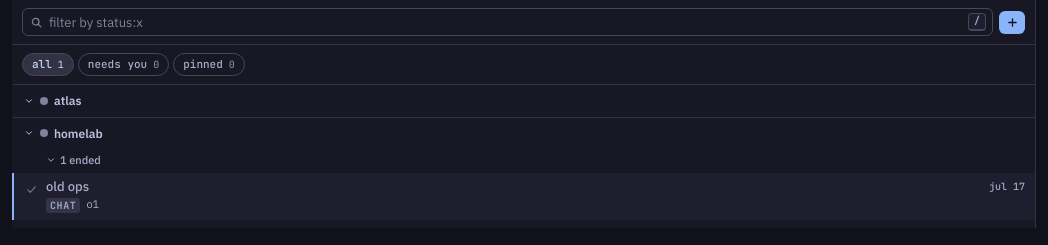
Test: clicking the ended row that holds the open session closes it
The image size is (1048, 245).
Click the button "1 ended": (80, 160) [12, 149, 1035, 174]
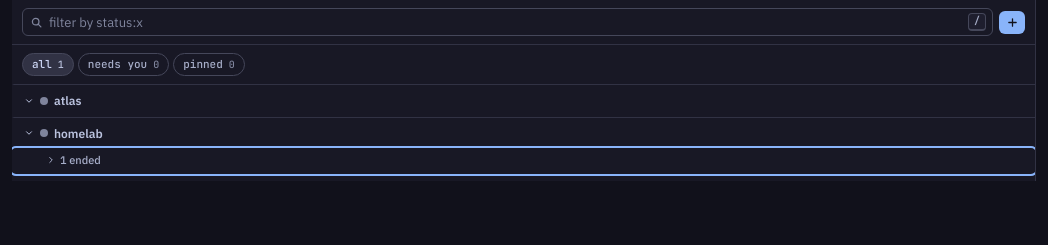
Expected: the button "1 ended" is collapsed
Click the button "1 ended": (80, 160) [12, 149, 1035, 174]
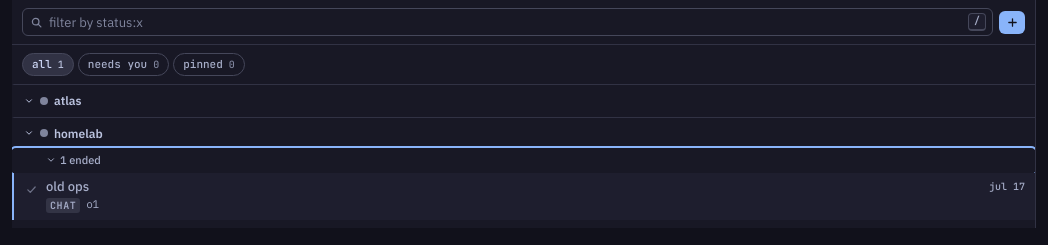
Expected: the text "old ops" is shown, [46, 178, 89, 196]
